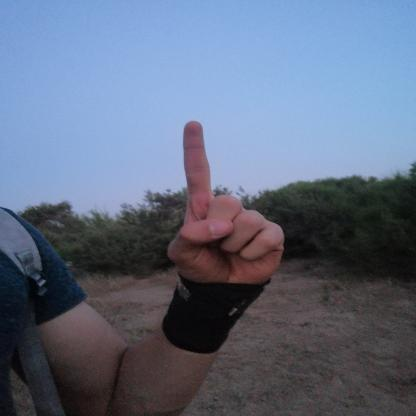BAA: (152, 113, 296, 297)
